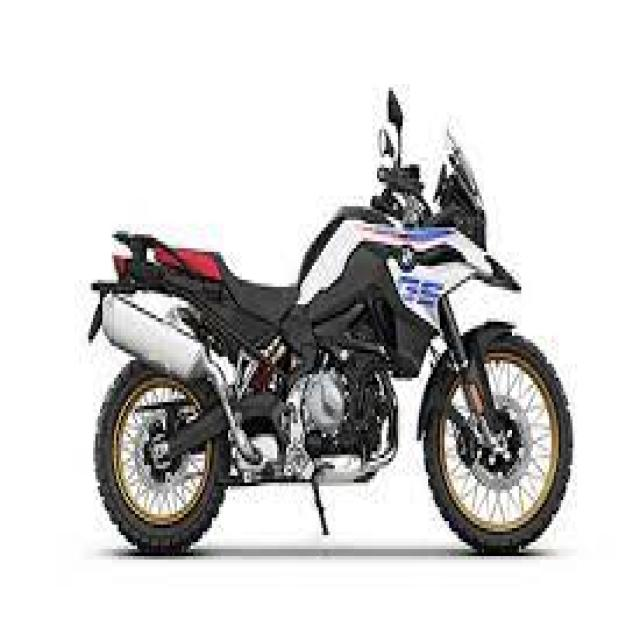MOTORCYCLE: (89, 157, 578, 548)
